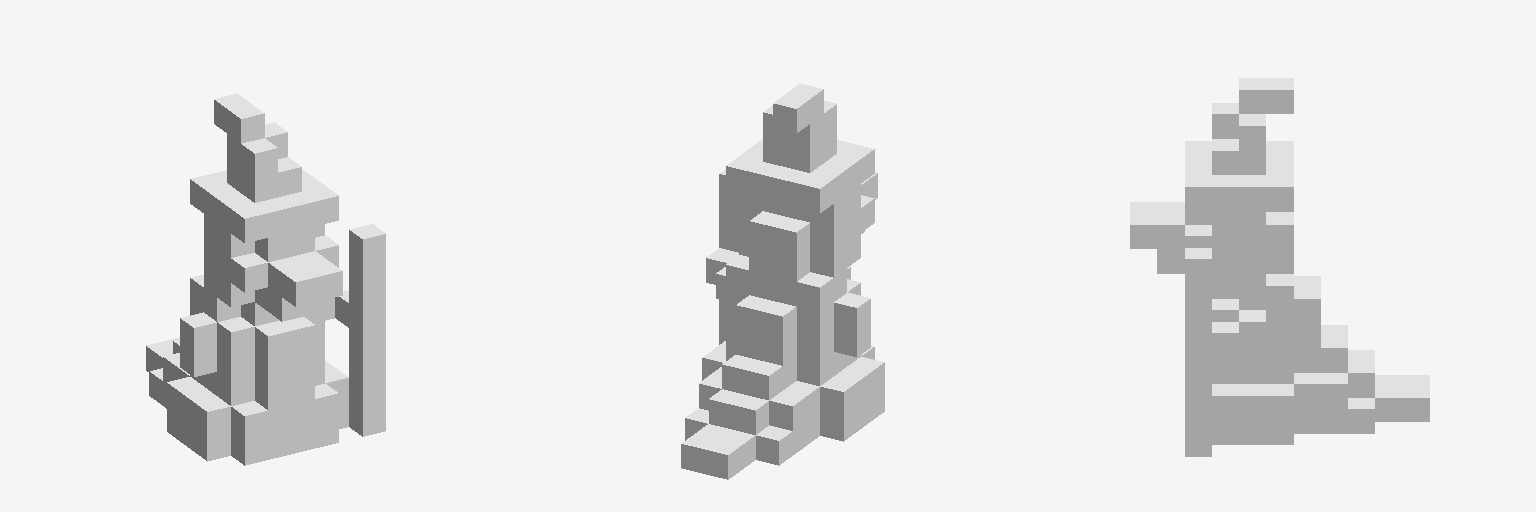
Rendered from Mag.obj.
The picture shows the model from 3 angles: view 1: azimuth 30°, elevation 25°; view 2: azimuth 150°, elevation 25°; view 3: azimuth 270°, elevation 25°; orthographic projection.
Parts seen in each view (by area): view 1: object 1; view 2: object 1; view 3: object 1.
Part boxes in pixels (left/top/right/bottom): object 1: left=146, top=93, right=385, bottom=465; object 1: left=681, top=84, right=884, bottom=479; object 1: left=1130, top=78, right=1429, bottom=456.
Bounding box in the file's own units: 0.7 × 1.3 × 1.1.